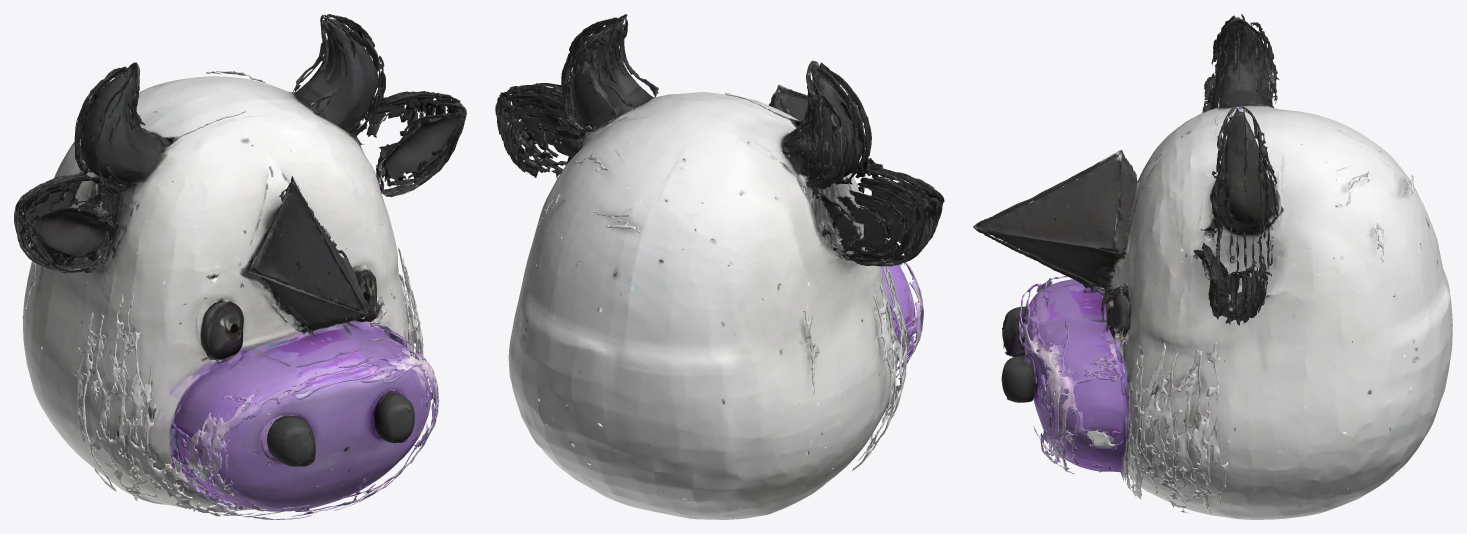
Rendered from metacoww.glb.
3 renders of one model, left to right at view 1: azimuth 30°, elevation 25°; view 2: azimuth 150°, elevation 25°; view 3: azimuth 270°, elevation 25°, orthographic. The views are drawn at different scales.
Size of the model in its own units: 2 by 1.98 by 1.96.
1 material, 1 textured.
